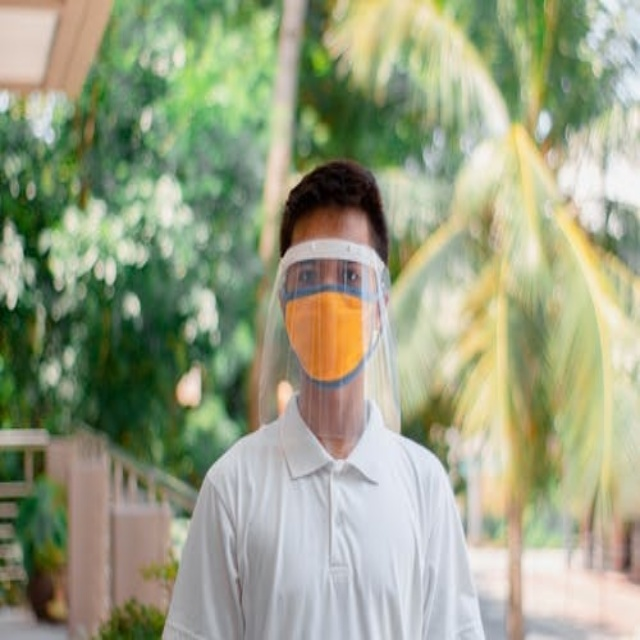Mascara: (284, 272, 378, 386)
